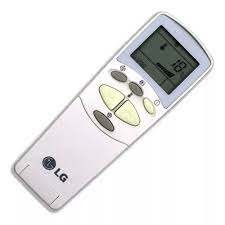remote control: (2, 1, 215, 213)
